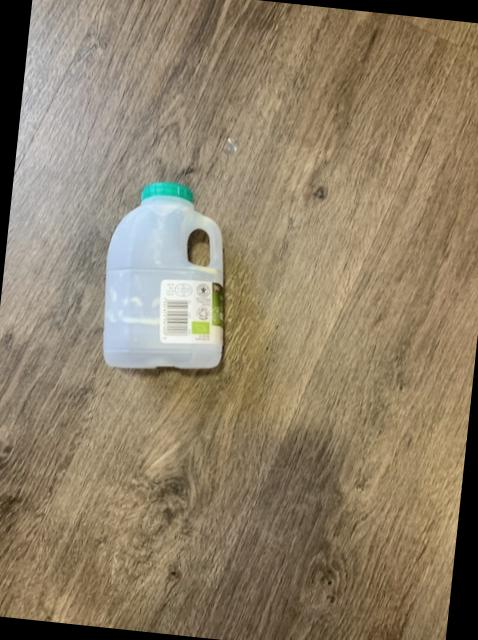plastic: (105, 181, 225, 367)
